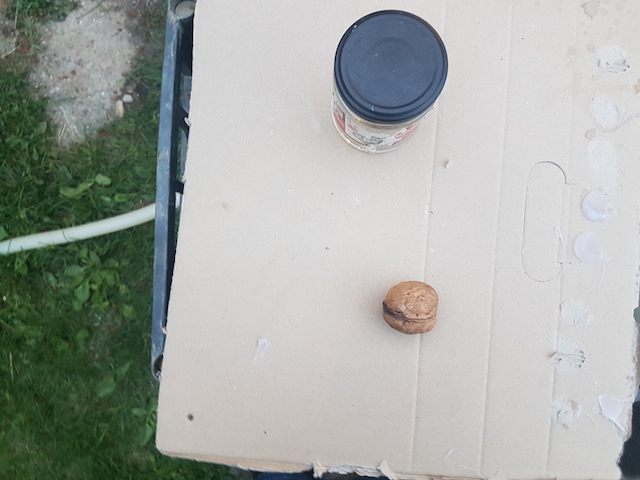nut: (378, 280, 440, 334)
recipient: (327, 6, 450, 120)
